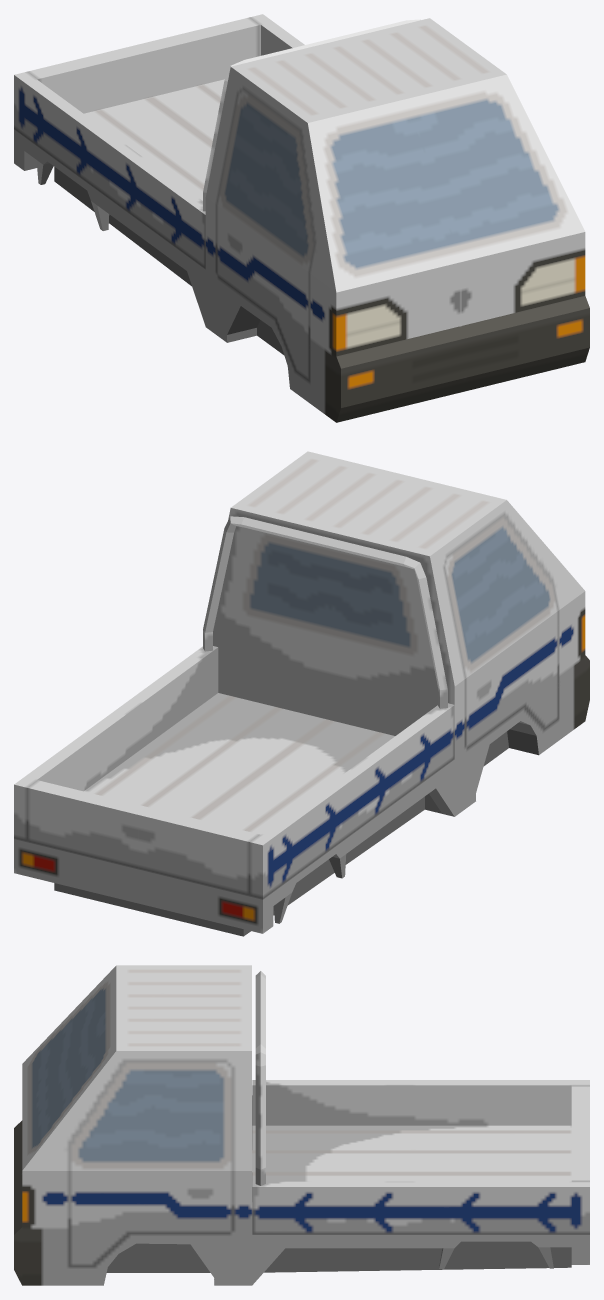
File: Acty.fbx
3 views of the same model, one above another, from view 1: azimuth 30°, elevation 25°; view 2: azimuth 150°, elevation 25°; view 3: azimuth 270°, elevation 25° (orthographic). The views are drawn at different scales.
Parts seen in each view (by area): view 1: Car; view 2: Car; view 3: Car.
Part boxes in pixels (bbox=[...]): Car: bbox=[14, 14, 589, 422]; Car: bbox=[14, 451, 589, 936]; Car: bbox=[14, 965, 589, 1285].
Bounding box in the file's own units: 1 × 0.9769 × 2.28.
Materials: 1 (1 with a texture image).
